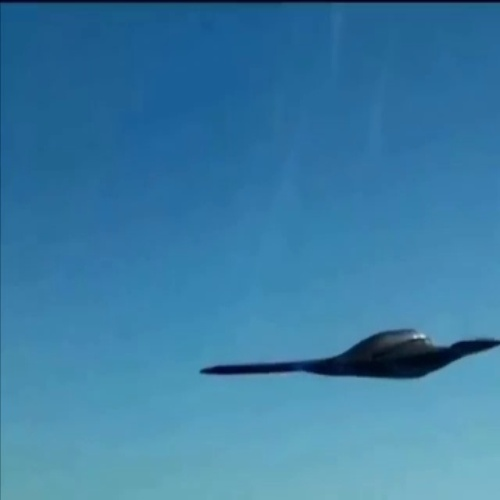uav: (198, 327, 498, 387)
